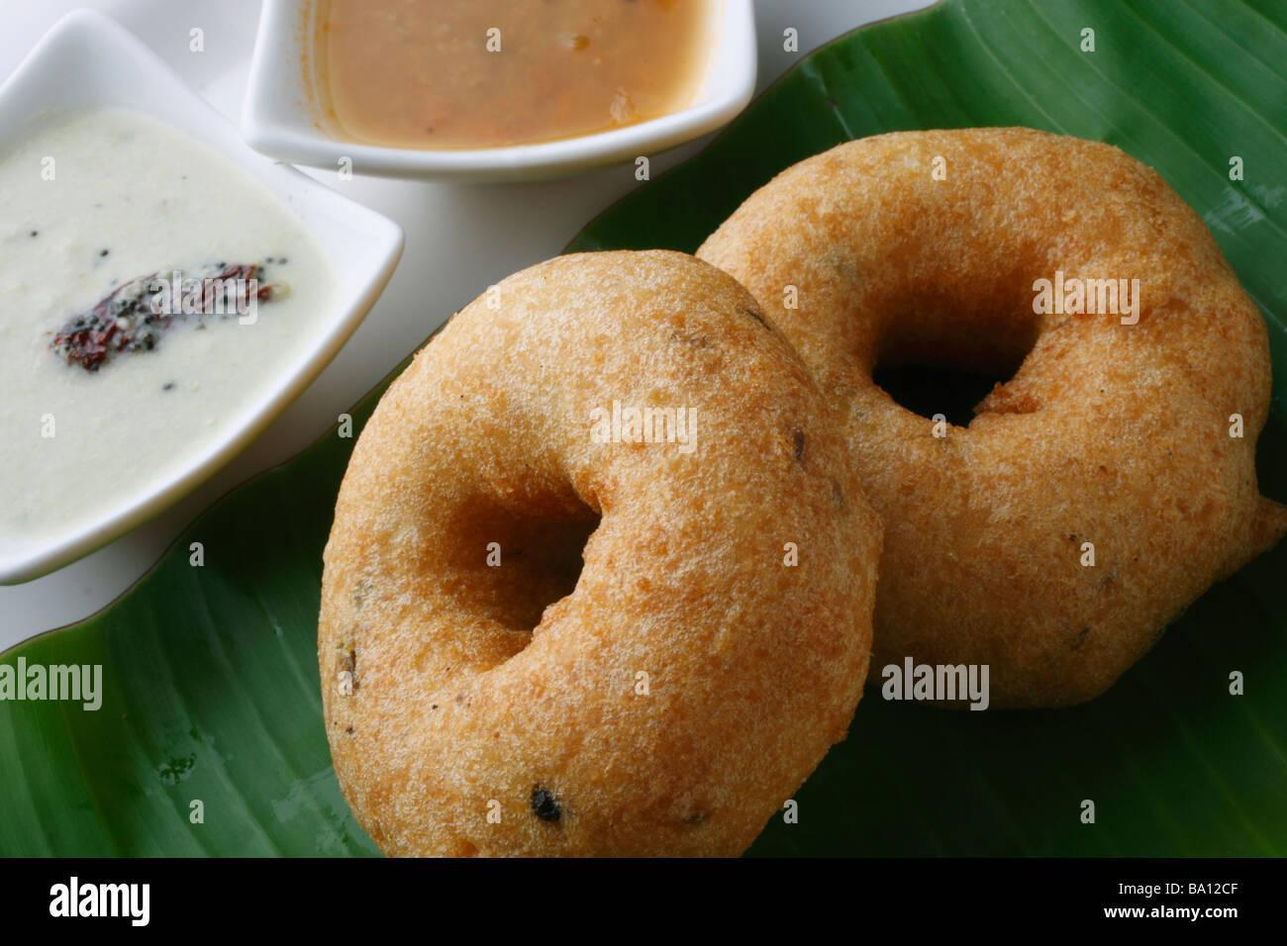mvada: (440, 262, 1079, 689)
